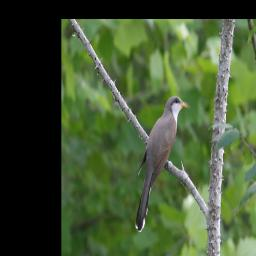Cuckoo: (133, 94, 190, 234)
